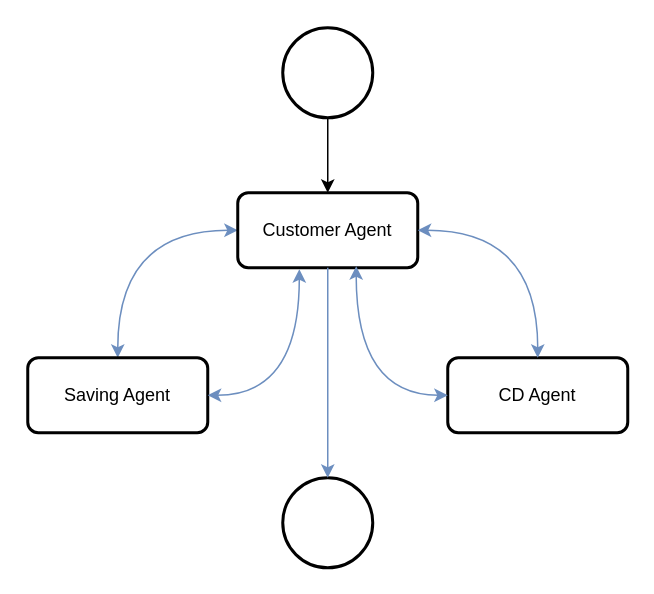
Some shapes in this 654 by 594 pixel diagram are drawn without their labels. The centre of each missing label's shape, as x and y in pixels:
"END" belongs at (327,522).
"START" belongs at (327,72).
